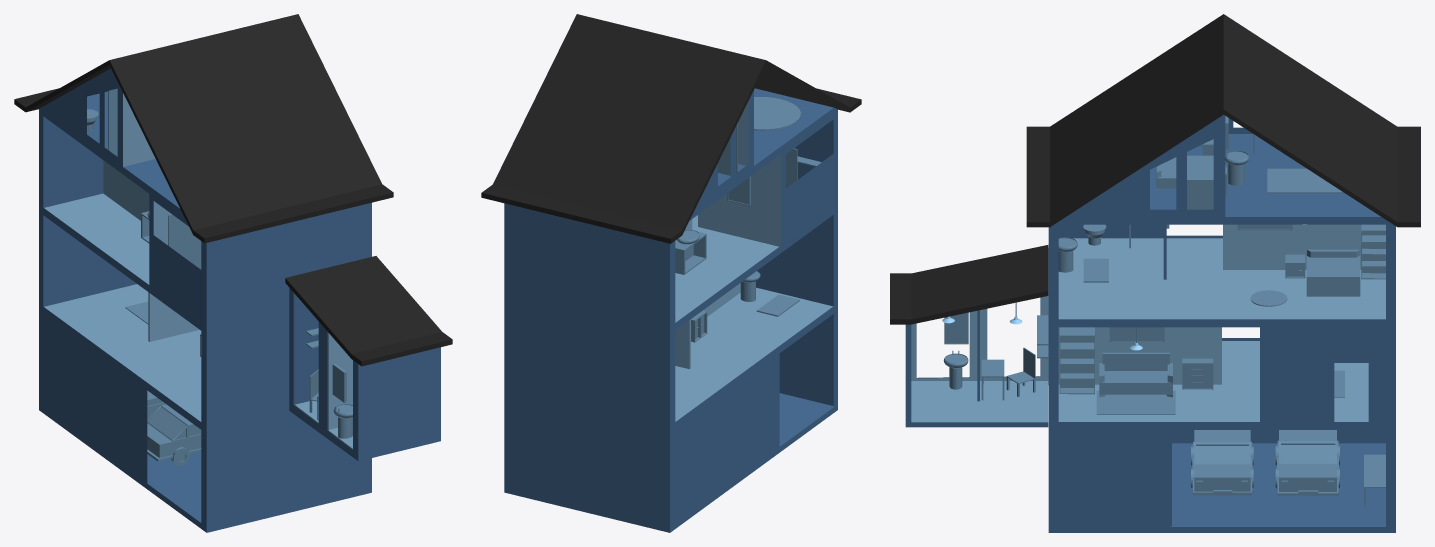
The model's file is house-kinewall.glb.
The picture shows the model from 3 angles, left to right: view 1: azimuth 30°, elevation 25°; view 2: azimuth 150°, elevation 25°; view 3: azimuth 270°, elevation 25°; orthographic projection. The views are drawn at different scales.
Parts seen in each view (by area): view 1: Cube.010; view 2: Cube.010; view 3: Cube.010.
Part boxes in pixels (box(x1,y1,x2,y2)): Cube.010: box(14, 14, 452, 532); Cube.010: box(481, 14, 861, 532); Cube.010: box(890, 14, 1420, 532).
Bounding box in the file's own units: 16 × 33.5 × 37.56.
